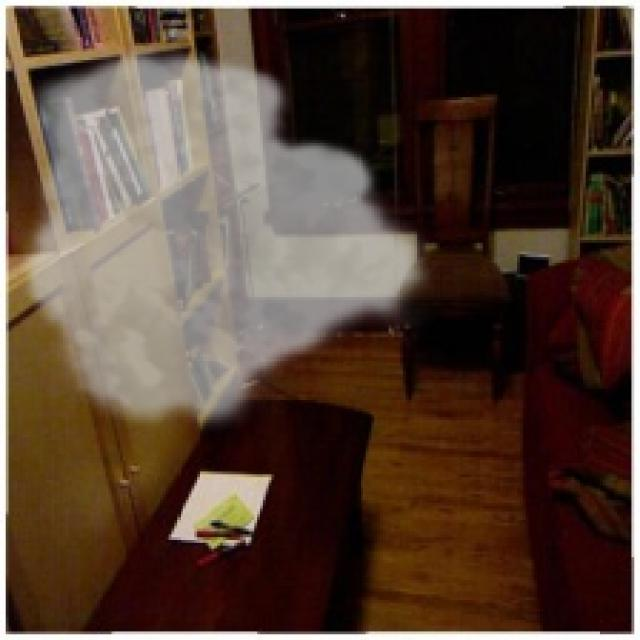smoke: (17, 43, 434, 437)
